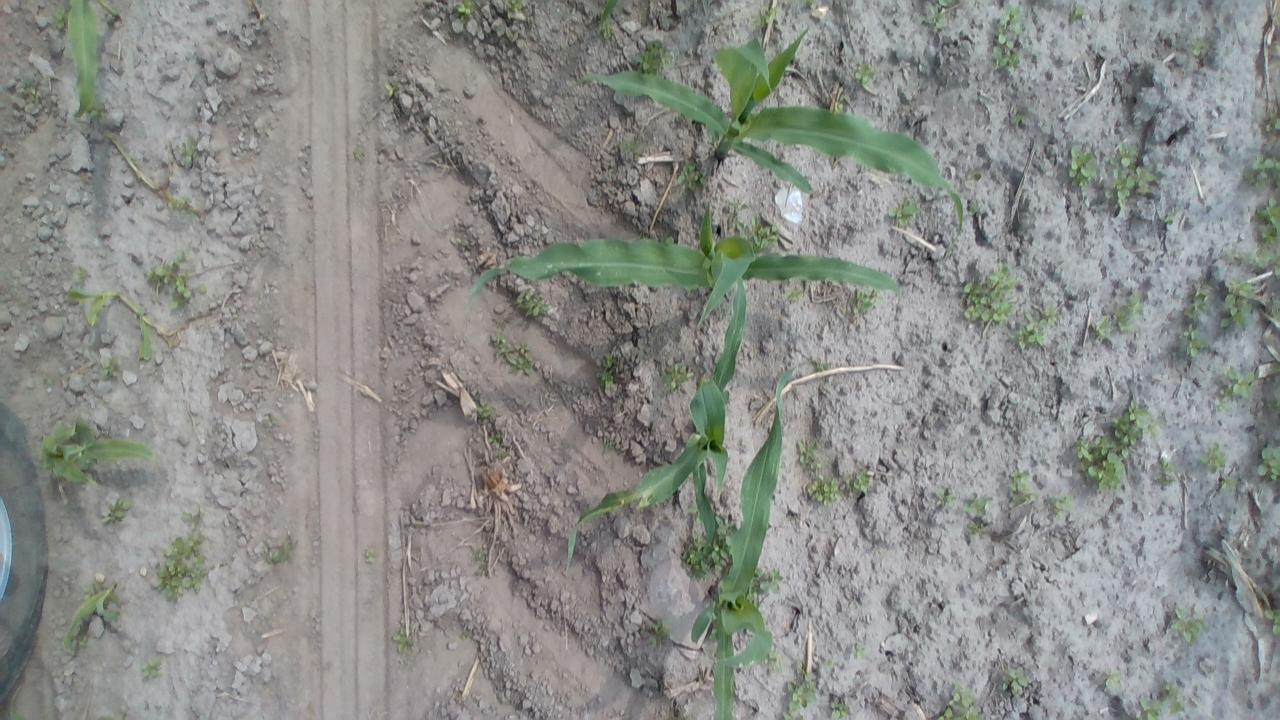Maize: (580, 27, 968, 238), (458, 214, 902, 336), (566, 270, 740, 578), (690, 372, 799, 714), (33, 422, 153, 480), (64, 2, 112, 117), (595, 0, 621, 40), (5, 698, 22, 719)
Weeds: (1106, 138, 1156, 212), (156, 530, 207, 600), (961, 263, 1016, 326), (1076, 430, 1126, 492), (144, 256, 194, 309), (681, 528, 730, 576), (992, 3, 1024, 72), (1114, 402, 1158, 452), (491, 332, 537, 374), (1218, 280, 1254, 332), (783, 662, 818, 714), (1214, 366, 1258, 406), (1252, 197, 1276, 264), (1169, 604, 1206, 643), (1068, 144, 1100, 188), (939, 686, 980, 720), (1144, 684, 1186, 716), (1112, 292, 1143, 332), (638, 42, 671, 76), (596, 0, 622, 40), (888, 196, 920, 228), (517, 290, 550, 320), (1013, 319, 1046, 349), (1188, 280, 1213, 318), (998, 664, 1028, 694), (262, 535, 293, 564), (1247, 153, 1276, 184), (925, 0, 954, 31), (747, 220, 780, 247), (1008, 468, 1034, 502), (662, 360, 688, 394), (1256, 443, 1278, 482), (807, 477, 840, 503), (854, 286, 882, 316), (1142, 692, 1174, 718), (1182, 326, 1207, 358), (174, 140, 202, 167), (1200, 442, 1226, 471), (797, 438, 821, 469), (679, 162, 704, 190), (754, 568, 782, 593), (20, 71, 40, 105), (752, 3, 776, 30), (964, 490, 991, 514), (600, 354, 618, 390), (106, 498, 130, 523), (849, 468, 870, 495), (1156, 458, 1176, 486), (1092, 314, 1114, 338), (853, 62, 874, 87), (474, 397, 494, 423), (393, 625, 412, 652), (1190, 32, 1210, 56), (714, 514, 734, 537), (936, 487, 957, 508), (182, 505, 204, 525), (1051, 494, 1073, 514), (650, 618, 670, 640), (1039, 302, 1059, 324), (764, 649, 782, 673), (1102, 667, 1122, 687), (141, 658, 161, 678), (90, 98, 108, 120), (620, 136, 642, 154), (455, 0, 479, 16), (52, 6, 68, 30), (101, 356, 121, 375), (1219, 472, 1238, 491), (830, 703, 852, 718), (72, 267, 91, 284), (1010, 108, 1026, 128), (506, 0, 524, 17), (785, 286, 804, 302), (1263, 608, 1276, 631), (833, 94, 850, 111), (1264, 108, 1276, 132), (850, 640, 866, 658), (1070, 5, 1086, 22), (365, 546, 378, 564), (1164, 211, 1177, 227), (385, 80, 397, 96), (802, 0, 814, 9)
